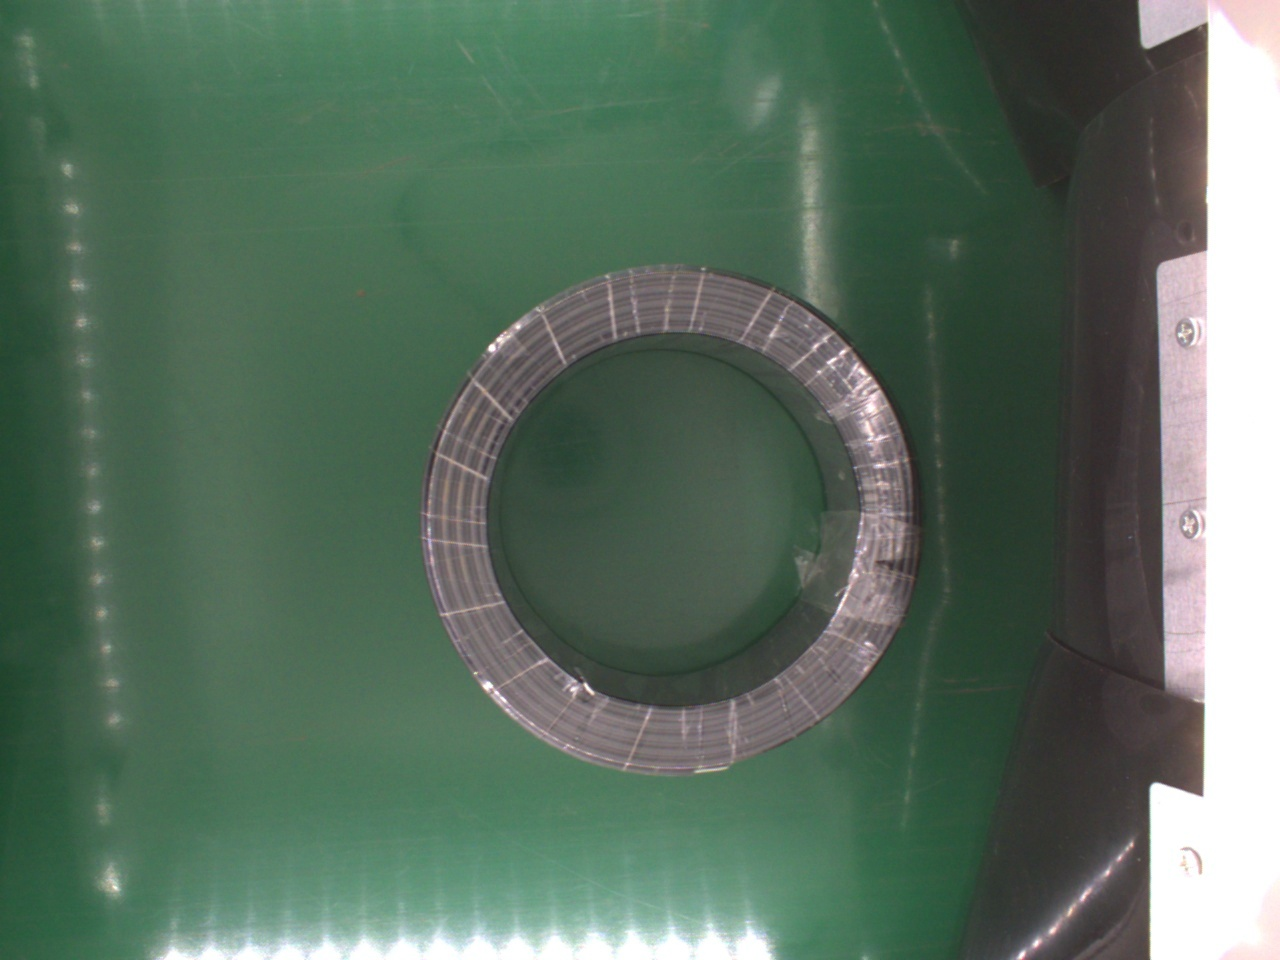black: (423, 263, 923, 775)
